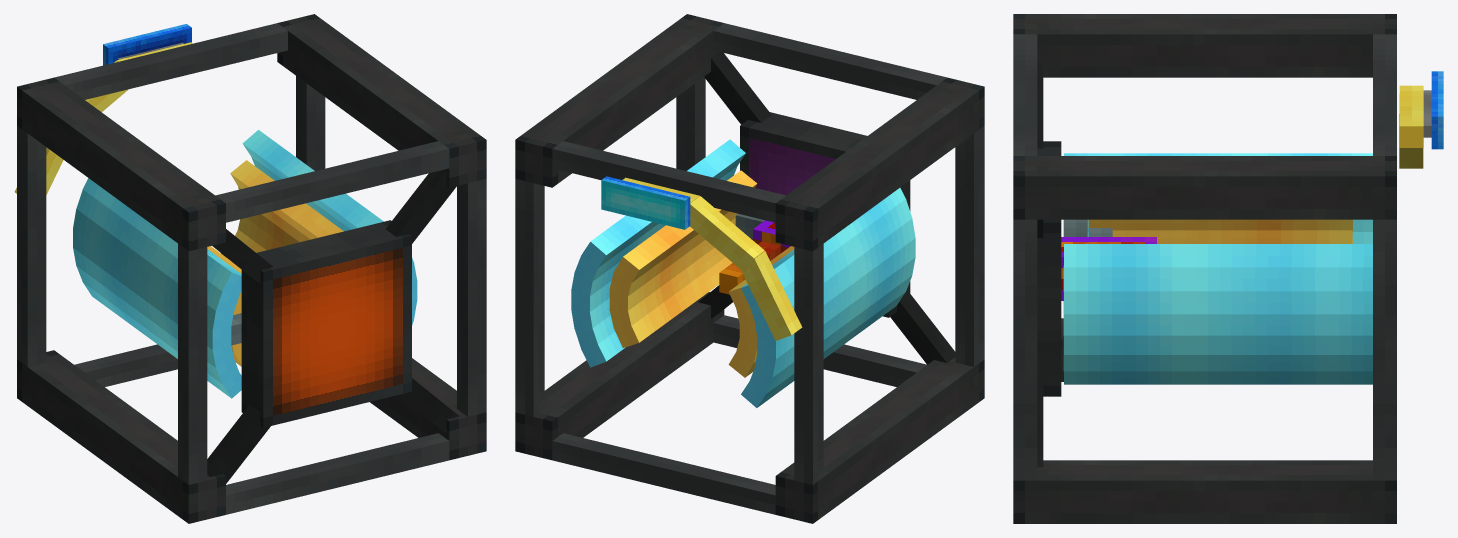
Rendered from reactor_stabilizer.obj.
3 views of the same model, side by side, from view 1: azimuth 30°, elevation 25°; view 2: azimuth 150°, elevation 25°; view 3: azimuth 270°, elevation 25° (orthographic). The views are drawn at different scales.
Parts seen in each view (by area): view 1: frame_north_south, frame_io, frame_up_down, frame_east_west, outer_rotor_blade_b, frame_strut, inner_rotor_blade_a, outer_rotor_blade_a, focus_panel, ring_seg; view 2: frame_north_south, frame_up_down, frame_east_west, outer_rotor_blade_b, inner_rotor_blade_a, outer_rotor_blade_a, frame_io, ring_seg, frame_strut, focus_panel, inner_rotor_blade_b, frame_core; view 3: frame_north_south, outer_rotor_blade_a, frame_up_down, frame_east_west, inner_rotor_blade_b, frame_io, ring_seg, outer_rotor_blade_b, frame_strut, focus_panel, frame_core.
Boxes of the visible parts, x1,y1,x2,y2 form: frame_north_south: (17, 14, 486, 523); frame_io: (241, 220, 411, 427); frame_up_down: (17, 76, 486, 484); frame_east_west: (54, 23, 449, 514); outer_rotor_blade_b: (73, 178, 241, 398); frame_strut: (207, 170, 459, 483); inner_rotor_blade_a: (230, 160, 343, 252); outer_rotor_blade_a: (242, 130, 417, 325); focus_panel: (103, 24, 191, 65); ring_seg: (14, 42, 192, 194); frame_north_south: (515, 14, 984, 523); frame_up_down: (515, 77, 984, 484); frame_east_west: (552, 23, 947, 514); outer_rotor_blade_b: (741, 188, 915, 407); inner_rotor_blade_a: (609, 170, 757, 347); outer_rotor_blade_a: (571, 139, 745, 367); frame_io: (740, 112, 910, 317); ring_seg: (622, 177, 802, 340); frame_strut: (698, 52, 955, 364); focus_panel: (601, 176, 690, 229); inner_rotor_blade_b: (728, 246, 794, 377); frame_core: (719, 220, 790, 294); frame_north_south: (1013, 14, 1396, 523); outer_rotor_blade_a: (1063, 244, 1372, 384); frame_up_down: (1013, 219, 1396, 480); frame_east_west: (1013, 34, 1396, 155); inner_rotor_blade_b: (1088, 219, 1352, 243); frame_io: (1037, 141, 1061, 396); ring_seg: (1399, 85, 1423, 168); outer_rotor_blade_b: (1064, 153, 1372, 243); frame_strut: (1037, 62, 1043, 467); focus_panel: (1431, 71, 1443, 149); frame_core: (1061, 237, 1156, 300).
Bounding box in the file's own units: 1 × 1 × 1.12.
Materials: 1 (1 with a texture image).
